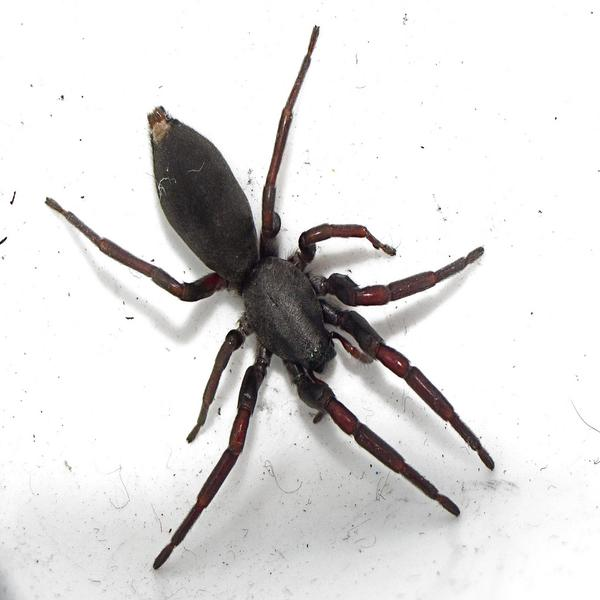White-Tailed_Spider: (44, 25, 496, 568)
